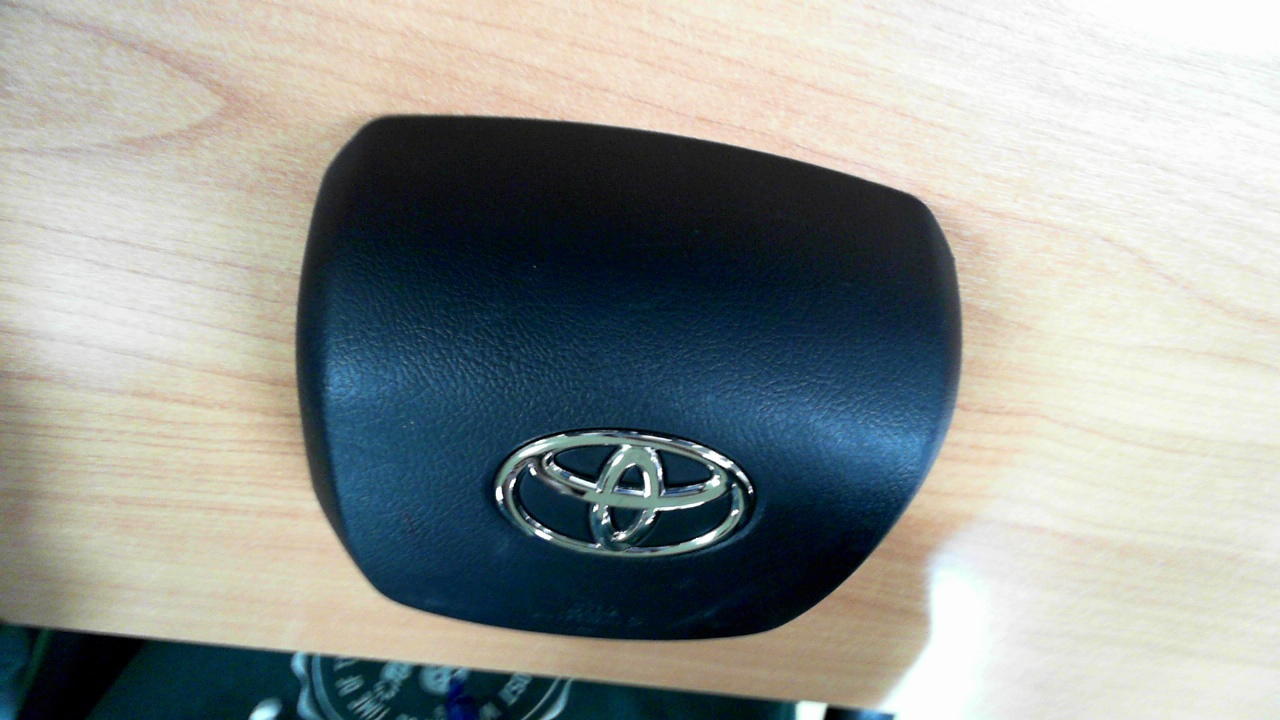Airbag: (295, 114, 962, 644)
Toyota: (494, 429, 754, 558)
